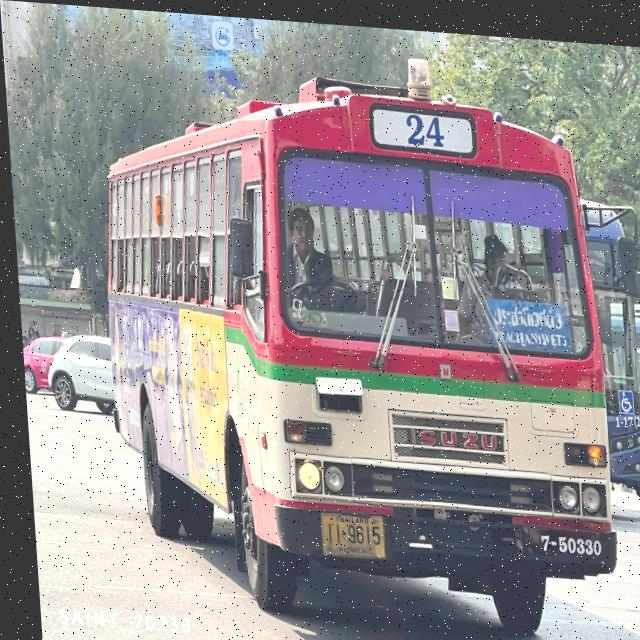BMTA-bus: (85, 14, 619, 640)
Bus Line Number: (368, 92, 477, 151)
Bus Side Number: (523, 523, 601, 553)
Destination Sign: (482, 291, 570, 351)
